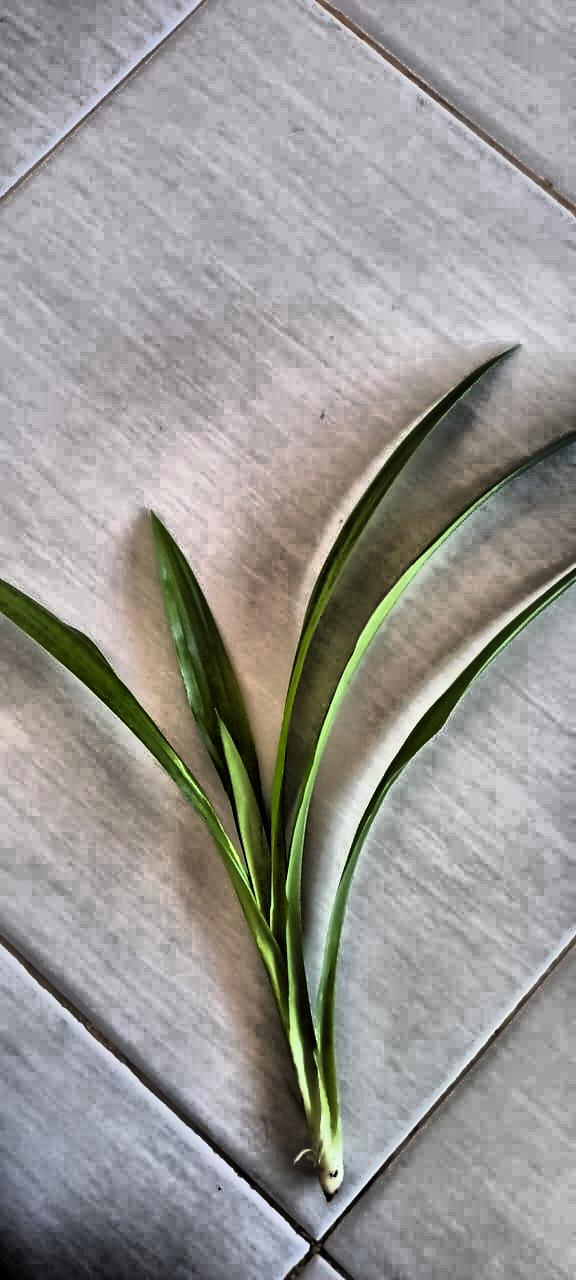daun pandan: (0, 352, 575, 1198)
